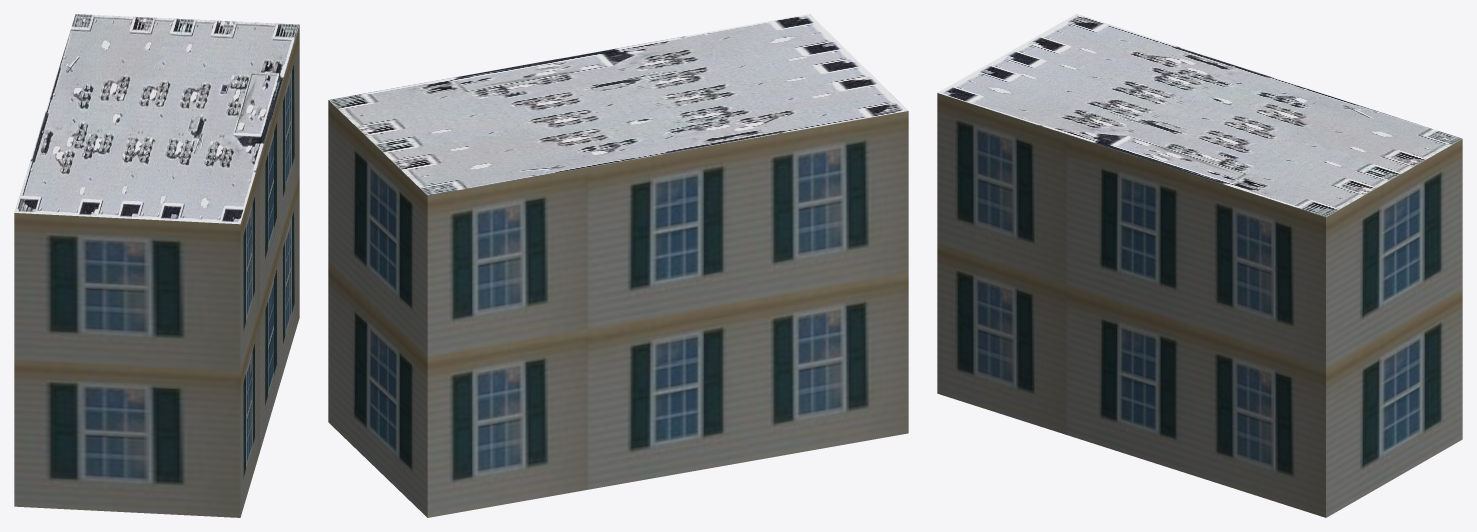
File: ResTex__2001.fbx
The picture shows the model from 3 angles, left to right: view 1: azimuth 30°, elevation 25°; view 2: azimuth 150°, elevation 25°; view 3: azimuth 270°, elevation 25°; orthographic projection. The views are drawn at different scales.
Visible parts, largest first — view 1: CityEngineMaterial_7_m, CityEngineMaterial_4_m; view 2: CityEngineMaterial_7_m, CityEngineMaterial_4_m; view 3: CityEngineMaterial_7_m, CityEngineMaterial_4_m.
Boxes of the visible parts, x1,y1,x2,y2 form: CityEngineMaterial_7_m: (14, 25, 299, 517); CityEngineMaterial_4_m: (14, 14, 299, 224); CityEngineMaterial_7_m: (328, 100, 908, 517); CityEngineMaterial_4_m: (329, 14, 907, 195); CityEngineMaterial_7_m: (937, 93, 1462, 517); CityEngineMaterial_4_m: (937, 14, 1462, 216).
Size of the model in its own units: 8.7 by 6 by 9.5.
Materials: 2 (2 with a texture image).
